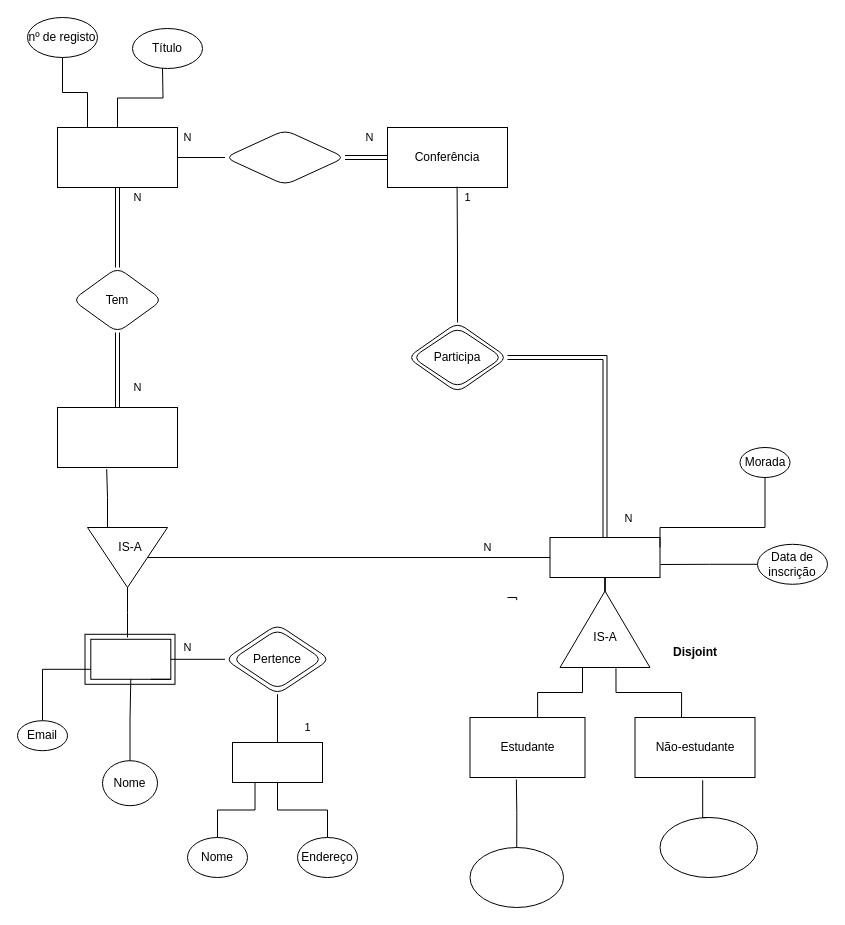
The diagram is 845 pixels wide and 925 high, and some of its shapes have lost their labels. Each missing label, with the box of its shape:
Apresenta: (224, 129, 345, 185)
Artigo científico: (56, 126, 178, 188)
Autor: (56, 406, 178, 468)
Instituição: (232, 742, 322, 782)
Localização eletrónica do comprovativo: (469, 846, 564, 908)
Participante: (549, 536, 660, 578)
Pessoa: (90, 638, 171, 679)
Referência da transação bancária: (659, 816, 758, 878)
